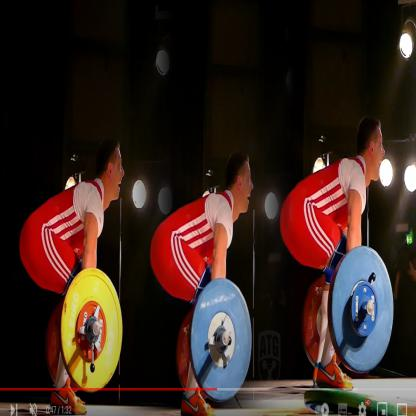Barbell: (56, 265, 134, 396), (190, 274, 254, 402)
